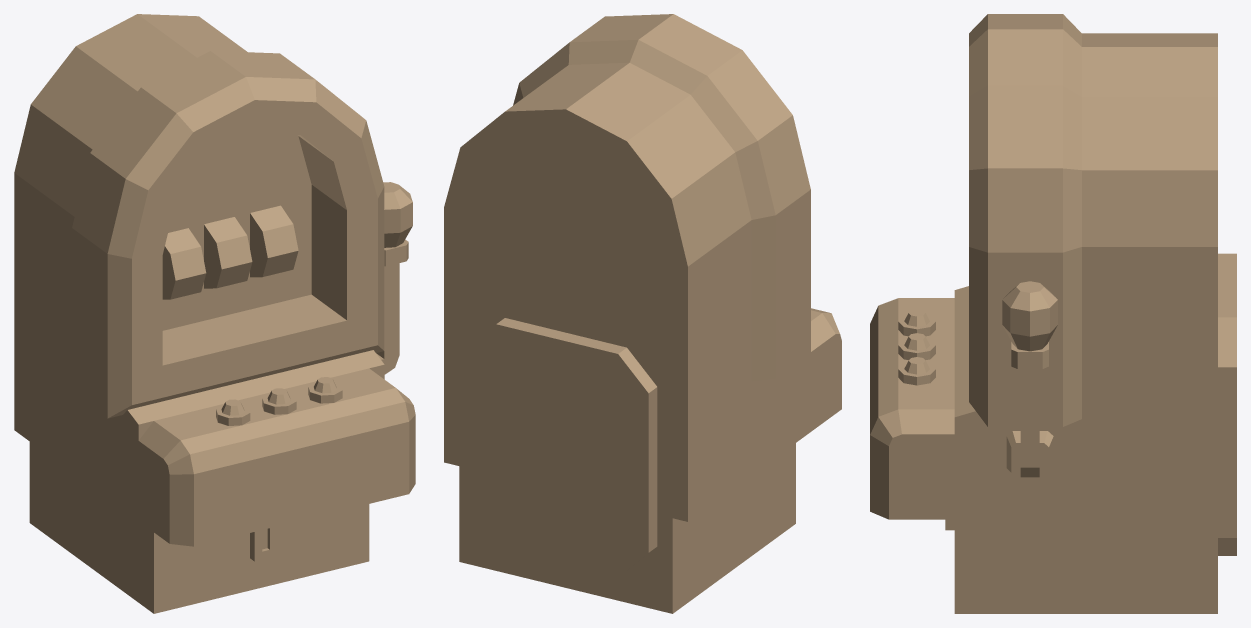
Rendered from gambling-machine.obj.
3 views of the same model, side by side, from view 1: azimuth 30°, elevation 25°; view 2: azimuth 150°, elevation 25°; view 3: azimuth 270°, elevation 25° (orthographic). The views are drawn at different scales.
Size of the model in its own units: 0.5245 by 0.7759 by 0.4875.
